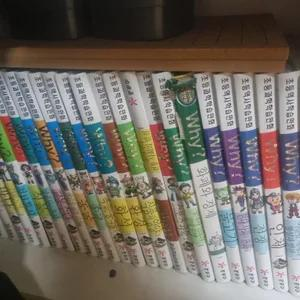book: (0, 65, 300, 295)
